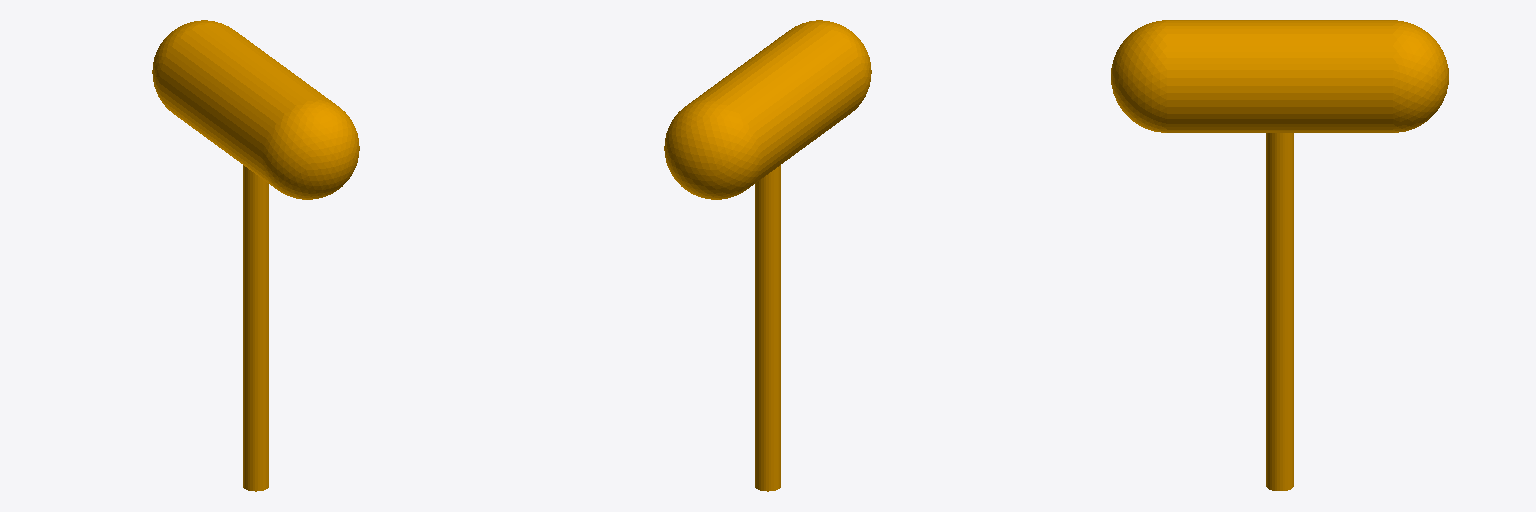
URDF robot description (ur5_with_measurement_tool):
<?xml version="1.0" ?>
<!-- =================================================================================== -->
<!-- |    This document was autogenerated by xacro from ur5_with_succ.xacro            | -->
<!-- |    EDITING THIS FILE BY HAND IS NOT RECOMMENDED                                 | -->
<!-- =================================================================================== -->
<robot name="ur5_with_measurement_tool">
  <!-- measured from model -->
  <!--property name="shoulder_height" value="0.089159" /-->
  <!--property name="shoulder_offset" value="0.13585" /-->
  <!-- shoulder_offset - elbow_offset + wrist_1_length = 0.10915 -->
  <!--property name="upper_arm_length" value="0.42500" /-->
  <!--property name="elbow_offset" value="0.1197" /-->
  <!-- CAD measured -->
  <!--property name="forearm_length" value="0.39225" /-->
  <!--property name="wrist_1_length" value="0.093" /-->
  <!-- CAD measured -->
  <!--property name="wrist_2_length" value="0.09465" /-->
  <!-- In CAD this distance is 0.930, but in the spec it is 0.09465 -->
  <!--property name="wrist_3_length" value="0.0823" /-->
  <!-- manually measured -->
  <link name="base_link">
    <visual>
      <geometry>
        <mesh filename="meshes/visual/base.dae"/>
      </geometry>
      <material name="LightGrey">
        <color rgba="0.7 0.7 0.7 1.0"/>
      </material>
    </visual>
    <collision>
      <geometry>
        <mesh filename="meshes/collision/base.stl"/>
      </geometry>
    </collision>
    <inertial>
      <mass value="4.0"/>
      <origin rpy="0 0 0" xyz="0.0 0.0 0.0"/>
      <inertia ixx="0.00443333156" ixy="0.0" ixz="0.0" iyy="0.00443333156" iyz="0.0" izz="0.0072"/>
    </inertial>
  </link>
  <joint name="shoulder_pan_joint" type="revolute">
    <parent link="base_link"/>
    <child link="shoulder_link"/>
    <origin rpy="0.0 0.0 0.0" xyz="0.0 0.0 0.089159"/>
    <axis xyz="0 0 1"/>
    <limit effort="150.0" lower="-6.28318530718" upper="6.28318530718" velocity="3.15"/>
    <dynamics damping="0.0" friction="0.0"/>
  </joint>
  <link name="shoulder_link">
    <visual>
      <geometry>
        <mesh filename="meshes/visual/shoulder.dae"/>
      </geometry>
      <material name="LightGrey">
        <color rgba="0.7 0.7 0.7 1.0"/>
      </material>
    </visual>
    <collision>
      <geometry>
        <mesh filename="meshes/collision/shoulder.stl"/>
      </geometry>
    </collision>
    <inertial>
      <mass value="3.7"/>
      <origin rpy="0 0 0" xyz="0.0 0.0 0.0"/>
      <inertia ixx="0.010267495893" ixy="0.0" ixz="0.0" iyy="0.010267495893" iyz="0.0" izz="0.00666"/>
    </inertial>
  </link>
  <joint name="shoulder_lift_joint" type="revolute">
    <parent link="shoulder_link"/>
    <child link="upper_arm_link"/>
    <origin rpy="0.0 1.570796325 0.0" xyz="0.0 0.13585 0.0"/>
    <axis xyz="0 1 0"/>
    <limit effort="150.0" lower="-6.28318530718" upper="6.28318530718" velocity="3.15"/>
    <dynamics damping="0.0" friction="0.0"/>
  </joint>
  <link name="upper_arm_link">
    <visual>
      <geometry>
        <mesh filename="meshes/visual/upperarm.dae"/>
      </geometry>
      <material name="LightGrey">
        <color rgba="0.7 0.7 0.7 1.0"/>
      </material>
    </visual>
    <collision>
      <geometry>
        <mesh filename="meshes/collision/upperarm.stl"/>
      </geometry>
    </collision>
    <inertial>
      <mass value="8.393"/>
      <origin rpy="0 0 0" xyz="0.0 0.0 0.28"/>
      <inertia ixx="0.22689067591036005" ixy="0.0" ixz="0.0" iyy="0.22689067591036005" iyz="0.0" izz="0.0151074"/>
    </inertial>
  </link>
  <joint name="elbow_joint" type="revolute">
    <parent link="upper_arm_link"/>
    <child link="forearm_link"/>
    <origin rpy="0.0 0.0 0.0" xyz="0.0 -0.1197 0.425"/>
    <axis xyz="0 1 0"/>
    <limit effort="150.0" lower="-6.28318530718" upper="6.28318530718" velocity="3.15"/>
    <dynamics damping="0.0" friction="0.0"/>
  </joint>
  <link name="forearm_link">
    <visual>
      <geometry>
        <mesh filename="meshes/visual/forearm.dae"/>
      </geometry>
      <material name="LightGrey">
        <color rgba="0.7 0.7 0.7 1.0"/>
      </material>
    </visual>
    <collision>
      <geometry>
        <mesh filename="meshes/collision/forearm.stl"/>
      </geometry>
    </collision>
    <inertial>
      <mass value="2.275"/>
      <origin rpy="0 0 0" xyz="0.0 0.0 0.25"/>
      <inertia ixx="0.04944331355599999" ixy="0.0" ixz="0.0" iyy="0.04944331355599999" iyz="0.0" izz="0.004095"/>
    </inertial>
  </link>
  <joint name="wrist_1_joint" type="revolute">
    <parent link="forearm_link"/>
    <child link="wrist_1_link"/>
    <origin rpy="0.0 1.570796325 0.0" xyz="0.0 0.0 0.39225"/>
    <axis xyz="0 1 0"/>
    <limit effort="28.0" lower="-6.28318530718" upper="6.28318530718" velocity="3.2"/>
    <dynamics damping="0.0" friction="0.0"/>
  </joint>
  <link name="wrist_1_link">
    <visual>
      <geometry>
        <mesh filename="meshes/visual/wrist1.dae"/>
      </geometry>
      <material name="LightGrey">
        <color rgba="0.7 0.7 0.7 1.0"/>
      </material>
    </visual>
    <collision>
      <geometry>
        <mesh filename="meshes/collision/wrist1.stl"/>
      </geometry>
    </collision>
    <inertial>
      <mass value="1.219"/>
      <origin rpy="0 0 0" xyz="0.0 0.0 0.0"/>
      <inertia ixx="0.11117275553087999" ixy="0.0" ixz="0.0" iyy="0.11117275553087999" iyz="0.0" izz="0.21942"/>
    </inertial>
  </link>
  <joint name="wrist_2_joint" type="revolute">
    <parent link="wrist_1_link"/>
    <child link="wrist_2_link"/>
    <origin rpy="0.0 0.0 0.0" xyz="0.0 0.093 0.0"/>
    <axis xyz="0 0 1"/>
    <limit effort="28.0" lower="-6.28318530718" upper="6.28318530718" velocity="3.2"/>
    <dynamics damping="0.0" friction="0.0"/>
  </joint>
  <link name="wrist_2_link">
    <visual>
      <geometry>
        <mesh filename="meshes/visual/wrist2.dae"/>
      </geometry>
      <material name="LightGrey">
        <color rgba="0.7 0.7 0.7 1.0"/>
      </material>
    </visual>
    <collision>
      <geometry>
        <mesh filename="meshes/collision/wrist2.stl"/>
      </geometry>
    </collision>
    <inertial>
      <mass value="1.219"/>
      <origin rpy="0 0 0" xyz="0.0 0.0 0.0"/>
      <inertia ixx="0.11117275553087999" ixy="0.0" ixz="0.0" iyy="0.11117275553087999" iyz="0.0" izz="0.21942"/>
    </inertial>
  </link>
  <joint name="wrist_3_joint" type="revolute">
    <parent link="wrist_2_link"/>
    <child link="wrist_3_link"/>
    <origin rpy="0.0 0.0 0.0" xyz="0.0 0.0 0.09465"/>
    <axis xyz="0 1 0"/>
    <limit effort="28.0" lower="-6.28318530718" upper="6.28318530718" velocity="3.2"/>
    <dynamics damping="0.0" friction="0.0"/>
  </joint>
  <link name="wrist_3_link">
    <visual>
      <geometry>
        <mesh filename="meshes/visual/wrist3.dae"/>
      </geometry>
      <material name="LightGrey">
        <color rgba="0.7 0.7 0.7 1.0"/>
      </material>
    </visual>
    <collision>
      <geometry>
        <mesh filename="meshes/collision/wrist3.stl"/>
      </geometry>
    </collision>
    <inertial>
      <mass value="0.1879"/>
      <origin rpy="0 0 0" xyz="0.0 0.0 0.0"/>
      <inertia ixx="0.017136473145408" ixy="0.0" ixz="0.0" iyy="0.017136473145408" iyz="0.0" izz="0.033822"/>
    </inertial>
  </link>
  <joint name="ee_fixed_joint" type="fixed">
    <parent link="wrist_3_link"/>
    <child link="ee_link"/>
    <origin rpy="0.0 0.0 1.570796325" xyz="0.0 0.0823 0.0"/>
  </joint>
  <link name="ee_link">
    <collision>
      <geometry>
        <box size="0.01 0.01 0.01"/>
      </geometry>
      <origin rpy="0 0 0" xyz="-0.01 0 0"/>
    </collision>
  </link>
  <transmission name="shoulder_pan_trans">
    <type>transmission_interface/SimpleTransmission</type>
    <joint name="shoulder_pan_joint">
      <hardwareInterface>PositionJointInterface</hardwareInterface>
    </joint>
    <actuator name="shoulder_pan_motor">
      <mechanicalReduction>1</mechanicalReduction>
    </actuator>
  </transmission>
  <transmission name="shoulder_lift_trans">
    <type>transmission_interface/SimpleTransmission</type>
    <joint name="shoulder_lift_joint">
      <hardwareInterface>PositionJointInterface</hardwareInterface>
    </joint>
    <actuator name="shoulder_lift_motor">
      <mechanicalReduction>1</mechanicalReduction>
    </actuator>
  </transmission>
  <transmission name="elbow_trans">
    <type>transmission_interface/SimpleTransmission</type>
    <joint name="elbow_joint">
      <hardwareInterface>PositionJointInterface</hardwareInterface>
    </joint>
    <actuator name="elbow_motor">
      <mechanicalReduction>1</mechanicalReduction>
    </actuator>
  </transmission>
  <transmission name="wrist_1_trans">
    <type>transmission_interface/SimpleTransmission</type>
    <joint name="wrist_1_joint">
      <hardwareInterface>PositionJointInterface</hardwareInterface>
    </joint>
    <actuator name="wrist_1_motor">
      <mechanicalReduction>1</mechanicalReduction>
    </actuator>
  </transmission>
  <transmission name="wrist_2_trans">
    <type>transmission_interface/SimpleTransmission</type>
    <joint name="wrist_2_joint">
      <hardwareInterface>PositionJointInterface</hardwareInterface>
    </joint>
    <actuator name="wrist_2_motor">
      <mechanicalReduction>1</mechanicalReduction>
    </actuator>
  </transmission>
  <transmission name="wrist_3_trans">
    <type>transmission_interface/SimpleTransmission</type>
    <joint name="wrist_3_joint">
      <hardwareInterface>PositionJointInterface</hardwareInterface>
    </joint>
    <actuator name="wrist_3_motor">
      <mechanicalReduction>1</mechanicalReduction>
    </actuator>
  </transmission>
  <!-- nothing to do here at the moment -->
  <!-- Create a fixed joint with a parameterized name. -->
  <joint name="succ_tool_joint" type="fixed">
    <!-- The parent link must be read from the robot model it is attached to. -->
    <parent link="wrist_3_link"/>
    <child link="succ_tool"/>
    <!-- The tool is directly attached to the flange. -->
    <origin rpy="0 0 0" xyz="0 0 0"/>
  </joint>
  <link name="succ_tool">
    <visual>
      <geometry>
        <!-- The path to the visual meshes in the package. -->
        <mesh filename="meshes/visual/grasped.obj"/>
      </geometry>
    </visual>
    <collision>
      <geometry>
        <!-- The path to the collision meshes in the package. -->
        <mesh filename="meshes/collision/grasped.obj"/>
      </geometry>
    </collision>
  </link>
  <!-- TCP frame -->
  <joint name="tcp_joint" type="fixed">
    <origin rpy="0 0 0" xyz="0 0 0.116"/>
    <parent link="succ_tool"/>
    <child link="tcp"/>
  </joint>
  <link name="tcp"/>
  <!-- define the ur5's position and orientation in the world coordinate system -->
  <link name="world"/>
  <joint name="world_joint" type="fixed">
    <parent link="world"/>
    <child link="base_link"/>
    <!-- TODO: check base_link name of robot -->
    <origin rpy="0.0 0.0 0.0" xyz="0.0 0.0 0.0"/>
  </joint>
</robot>

--- Facts derived from the render (not from the file) ---
Views: 3 orthographic renders of the robot side by side, from view 1: azimuth 30°, elevation 25°; view 2: azimuth 150°, elevation 25°; view 3: azimuth 270°, elevation 25°.
Robot: ur5_with_measurement_tool — 11 links, 10 joints (6 revolute, 4 fixed); root link world; default pose: every joint at zero.
Links seen in each view (by area): view 1: succ_tool; view 2: succ_tool; view 3: succ_tool.
Link boxes in pixels (left/top/right/bottom): succ_tool: left=152, top=20, right=359, bottom=491; succ_tool: left=664, top=20, right=871, bottom=491; succ_tool: left=1111, top=20, right=1448, bottom=490.
Size in the robot's own frame: 0.1 by 0.3 by 0.45 metres.
Meshes: 8 distinct files referenced, 1 mesh visuals loaded (1 OBJ); not drawn: 7 (reference not matched to a file when rendering).